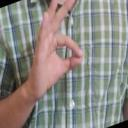hand: (26, 0, 83, 99)
